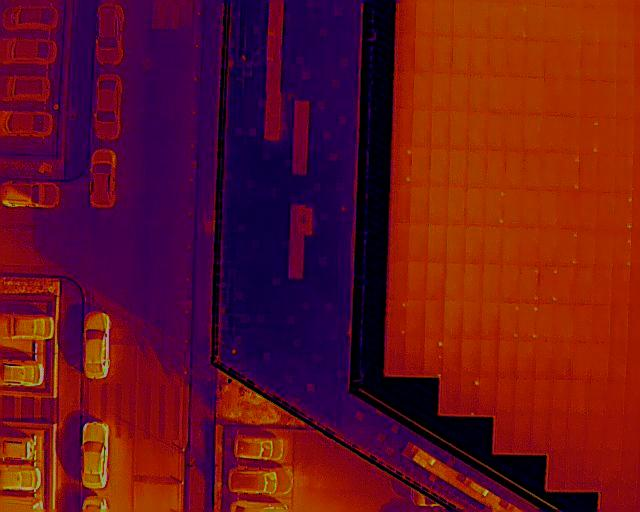Cell-Multi: (499, 302, 520, 339), (388, 300, 407, 340), (393, 146, 412, 186), (461, 378, 480, 417), (486, 186, 504, 227), (614, 191, 633, 229), (519, 303, 538, 340), (424, 339, 443, 376), (561, 152, 580, 189), (521, 264, 539, 303), (558, 229, 577, 265), (581, 117, 599, 154), (540, 265, 558, 301)
No-Anomaly: (465, 186, 487, 226), (503, 225, 524, 264), (444, 263, 465, 301), (480, 339, 500, 378), (433, 72, 453, 111), (490, 0, 510, 39), (426, 263, 447, 300), (602, 452, 622, 490), (461, 340, 481, 378), (396, 36, 416, 74), (508, 39, 528, 77), (463, 301, 483, 339), (424, 301, 444, 339), (502, 264, 522, 302), (593, 265, 613, 303), (449, 148, 468, 188), (505, 150, 525, 188), (389, 261, 408, 301), (543, 77, 563, 115), (541, 151, 561, 189), (489, 76, 509, 114), (444, 301, 463, 340), (468, 148, 487, 187), (509, 0, 528, 39), (485, 225, 504, 264), (428, 187, 447, 226), (448, 186, 467, 225), (499, 340, 519, 377), (532, 378, 552, 415), (495, 416, 515, 453), (583, 453, 603, 490), (546, 40, 566, 77), (607, 340, 627, 377), (412, 110, 432, 147), (481, 302, 501, 339), (540, 189, 560, 226), (428, 226, 448, 263), (542, 114, 562, 151), (406, 339, 425, 377), (528, 40, 547, 78), (490, 39, 509, 77), (483, 264, 502, 302), (464, 263, 483, 301), (391, 186, 410, 224), (410, 187, 429, 225), (505, 188, 524, 226), (595, 190, 614, 228), (466, 225, 485, 263), (522, 227, 541, 265), (470, 74, 489, 112), (507, 77, 526, 115), (453, 0, 472, 38), (599, 43, 618, 81), (386, 340, 406, 376), (553, 339, 571, 379), (545, 5, 565, 41), (451, 76, 471, 112), (412, 147, 430, 187), (601, 416, 622, 450), (586, 379, 605, 416), (394, 109, 413, 146), (468, 112, 487, 149), (414, 73, 433, 110), (598, 6, 617, 43), (616, 119, 635, 156), (449, 113, 468, 150), (605, 378, 623, 417), (518, 339, 536, 378), (588, 339, 606, 378), (472, 37, 490, 76), (524, 149, 542, 188), (578, 190, 596, 229), (447, 225, 465, 264), (571, 303, 591, 338), (532, 417, 552, 452), (565, 453, 584, 489), (442, 377, 461, 413), (443, 340, 462, 376), (480, 377, 498, 415), (513, 415, 531, 453), (415, 35, 433, 73), (431, 112, 450, 148), (612, 266, 630, 304), (435, 0, 454, 36), (560, 190, 578, 228), (541, 226, 559, 264), (523, 188, 541, 226), (390, 225, 409, 261), (617, 6, 635, 44), (408, 225, 427, 261), (395, 73, 414, 109), (581, 79, 599, 117), (431, 149, 449, 187), (408, 262, 426, 300), (524, 113, 542, 151), (549, 452, 567, 489), (550, 416, 568, 453), (514, 379, 532, 416), (454, 38, 472, 75), (616, 82, 634, 119), (575, 265, 593, 302), (407, 300, 425, 337), (487, 149, 505, 186), (597, 154, 615, 191), (472, 0, 490, 37), (613, 230, 631, 267), (595, 228, 613, 265), (488, 113, 506, 150), (591, 303, 610, 338), (434, 37, 453, 72), (615, 156, 634, 191), (525, 78, 544, 113), (571, 339, 588, 378), (536, 339, 553, 378), (618, 43, 635, 82), (397, 0, 415, 36), (599, 81, 617, 117), (506, 114, 524, 150), (562, 117, 580, 153), (498, 377, 515, 415), (416, 0, 435, 34), (582, 42, 599, 80), (577, 229, 595, 264), (555, 302, 572, 339), (558, 265, 575, 302), (580, 153, 597, 190), (564, 78, 581, 115), (599, 117, 616, 154), (611, 303, 628, 339), (567, 415, 584, 451), (569, 379, 586, 415), (538, 302, 555, 338), (564, 6, 582, 40), (529, 5, 546, 41), (585, 416, 602, 451), (582, 6, 599, 41), (553, 379, 569, 416), (565, 41, 581, 78)
